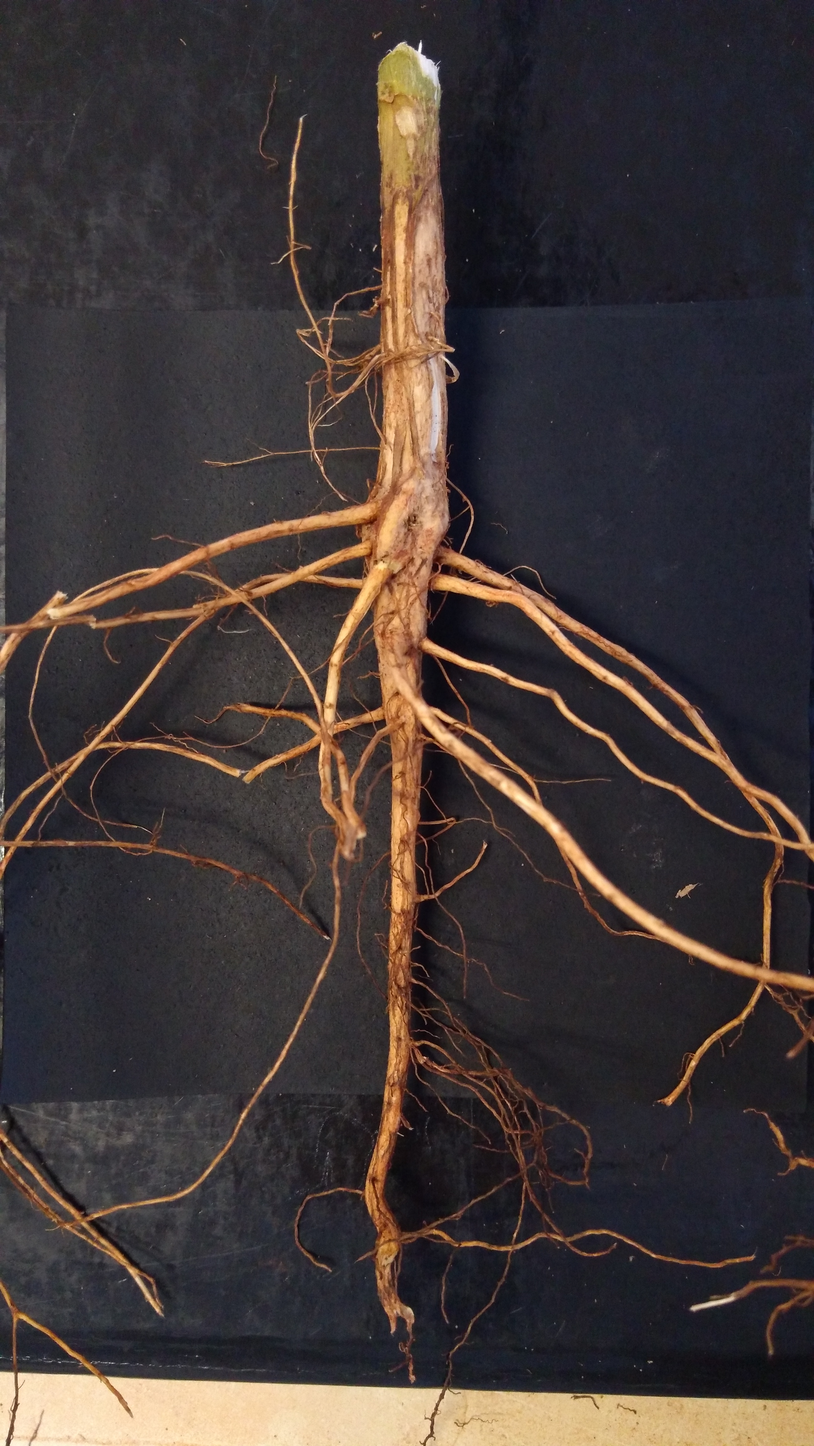nodule: (375, 1232, 400, 1266), (355, 523, 362, 540), (485, 599, 497, 607), (373, 296, 379, 302)
